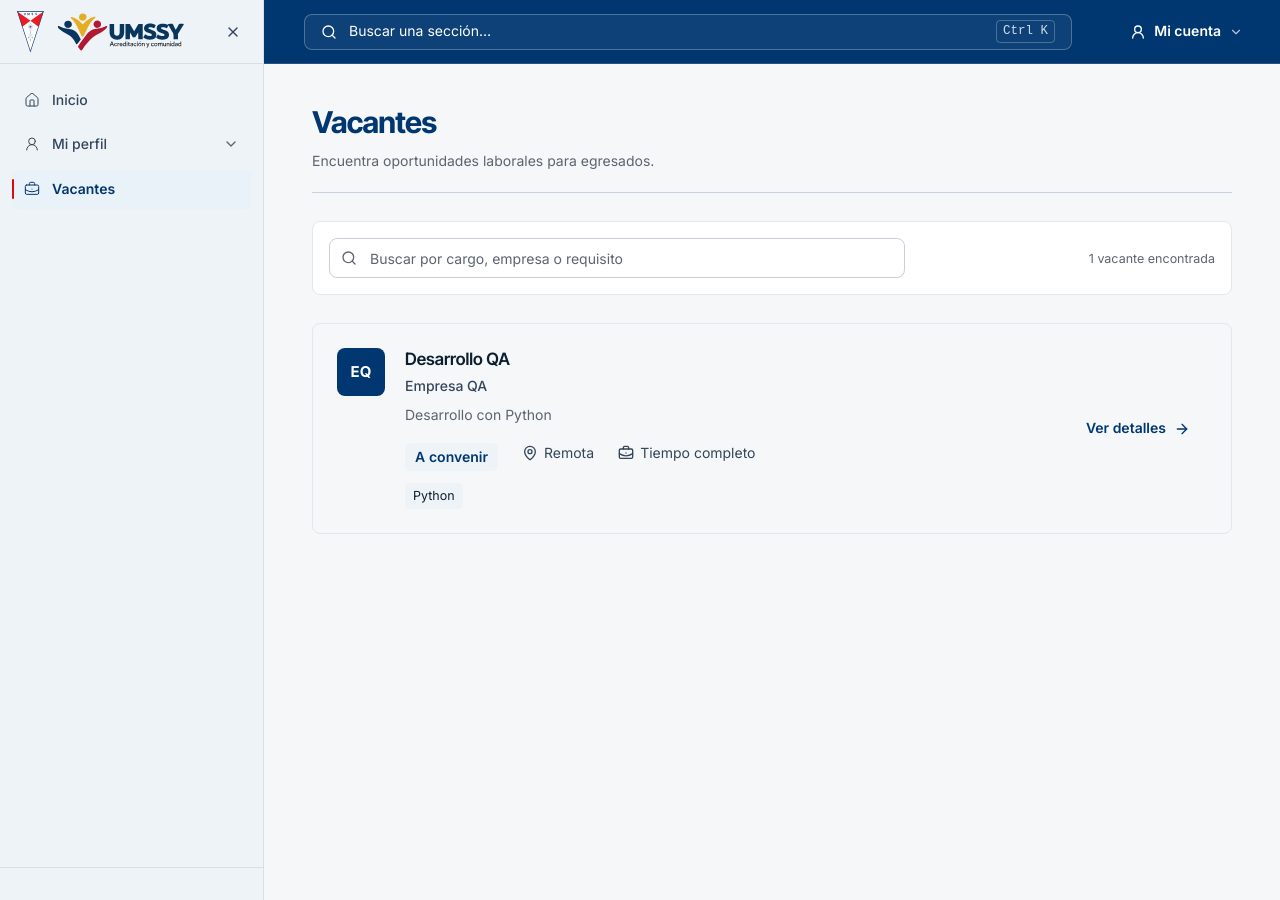
it: Vacancy routes › opens details over the listing and restores the listing on Escape
This screenshot has width=1280, height=900.
Click the button "Ver detalles" at (1138, 429), box [1069, 409, 1207, 449]
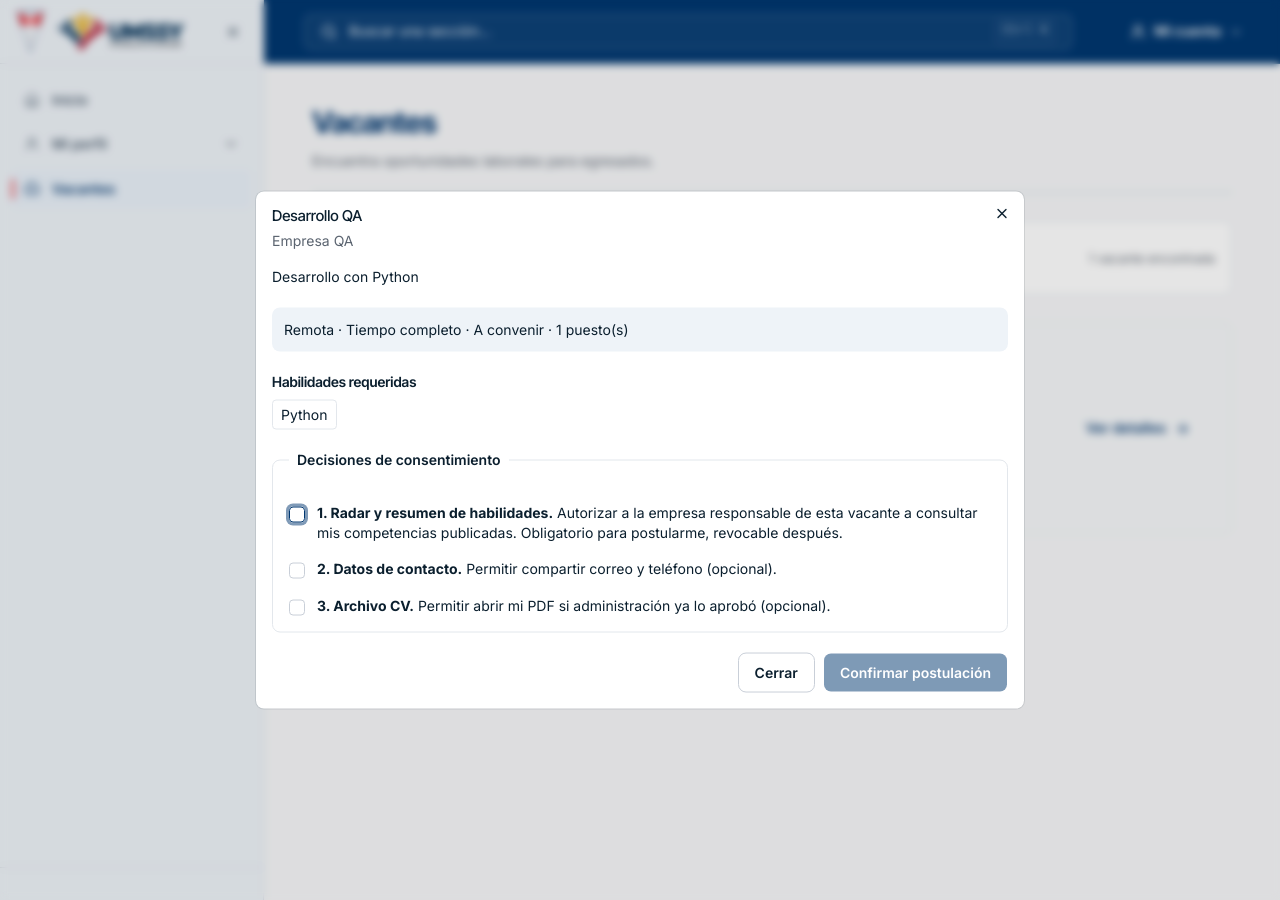
Expected: the dialog is shown, [256, 192, 1024, 708]
Press Escape
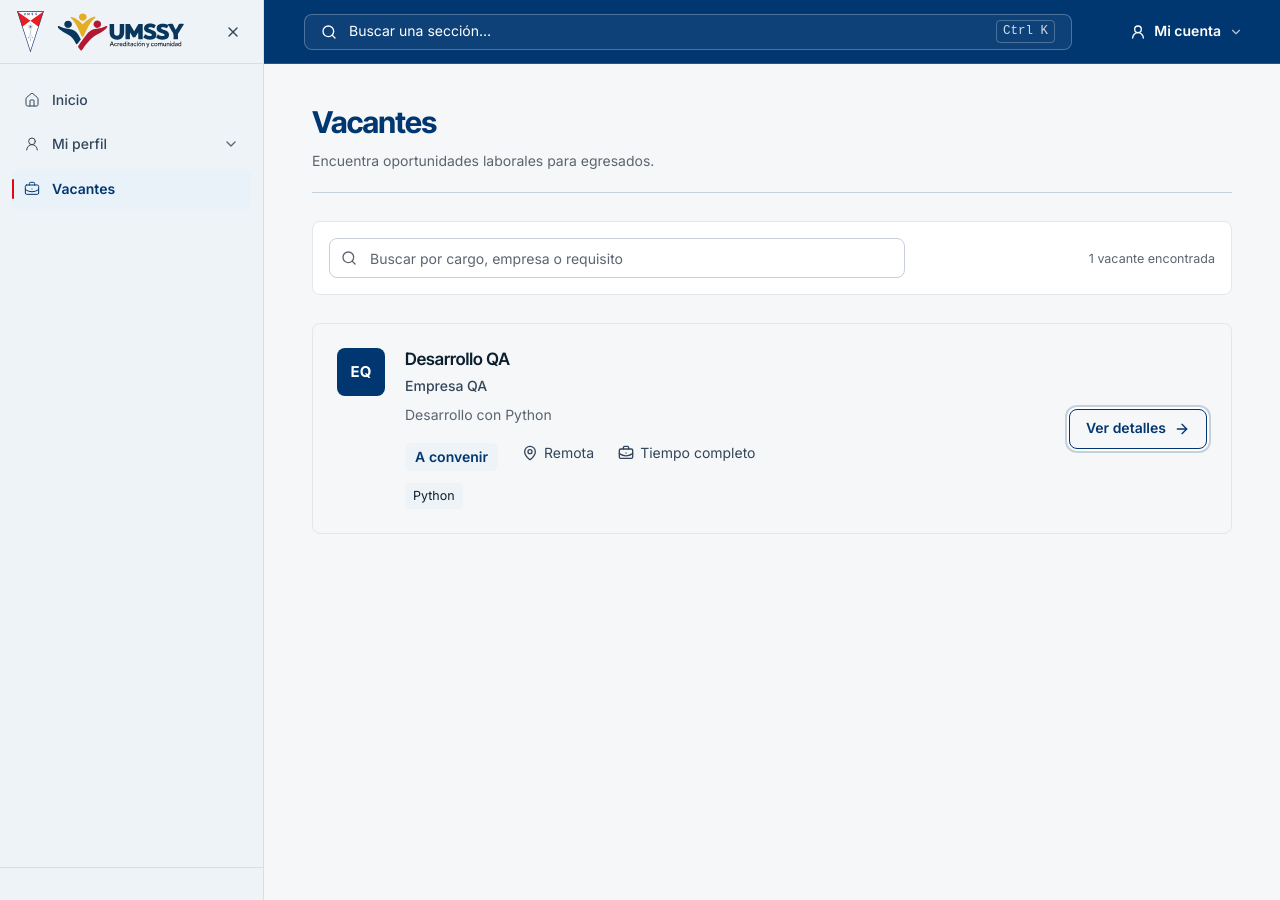
Expected: the heading "Vacantes" is shown, [312, 104, 436, 140]
Expected: the dialog is gone
